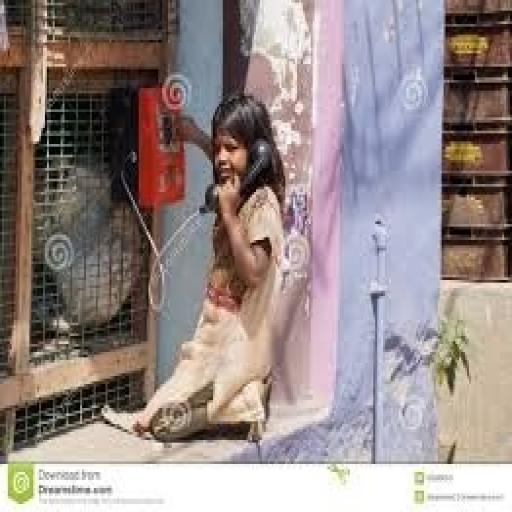calling: (129, 88, 287, 443)
